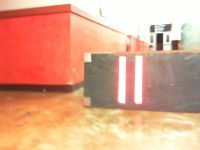switch: (134, 55, 143, 104), (117, 56, 126, 104)
